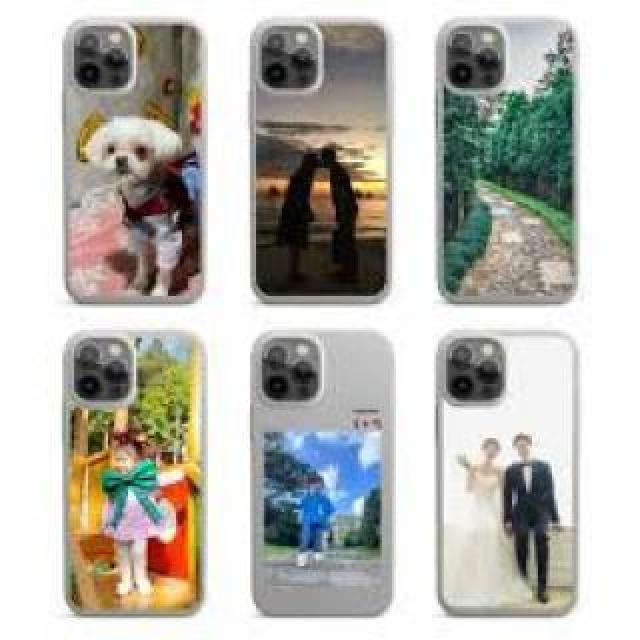smart phone: (248, 330, 408, 632), (62, 10, 220, 312), (240, 5, 397, 303), (50, 327, 205, 615), (433, 13, 585, 302), (442, 327, 582, 630)
